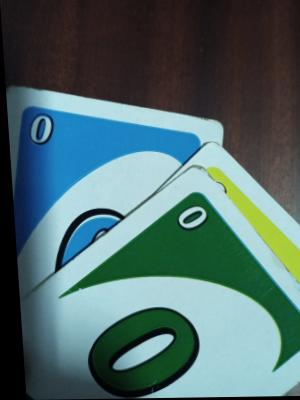blue: (6, 107, 165, 174)
num_0: (66, 307, 207, 397), (159, 203, 213, 246), (24, 110, 56, 149)
